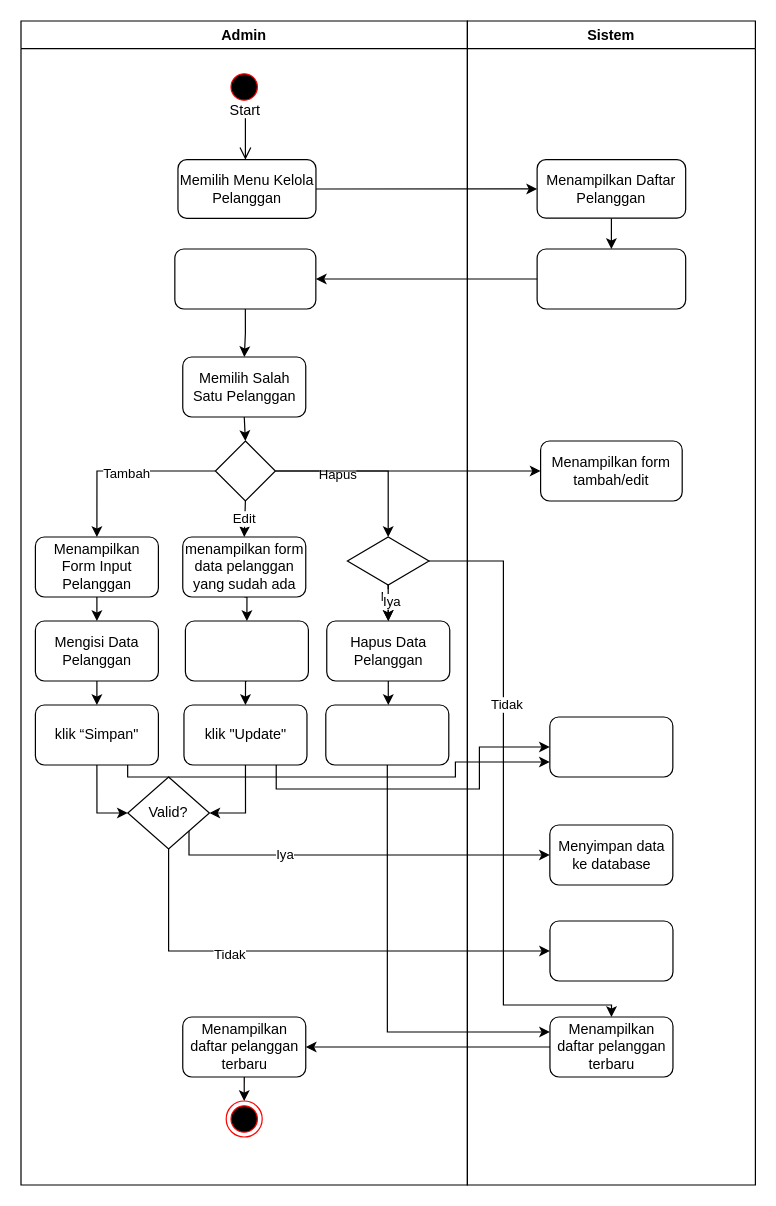
Image size: 776x1206. Some labels were removed from this diagram. The shapes that lost their labels are listed below. From the top down, each one's centre as x and y in pixels, then its label:
(245,278): Melihat Daftar Pelanggan
(611,278): Mengambil Data Dari Database
(244,470): Pilih Aksi
(387,560): Yakin Hapus?
(246,650): mengubah data
(387,734): Data Pelanggan Dihapus
(611,746): Memvalidasi/ Menerima Tindakan Admin
(611,950): Menampilkan pesan sukses/error
